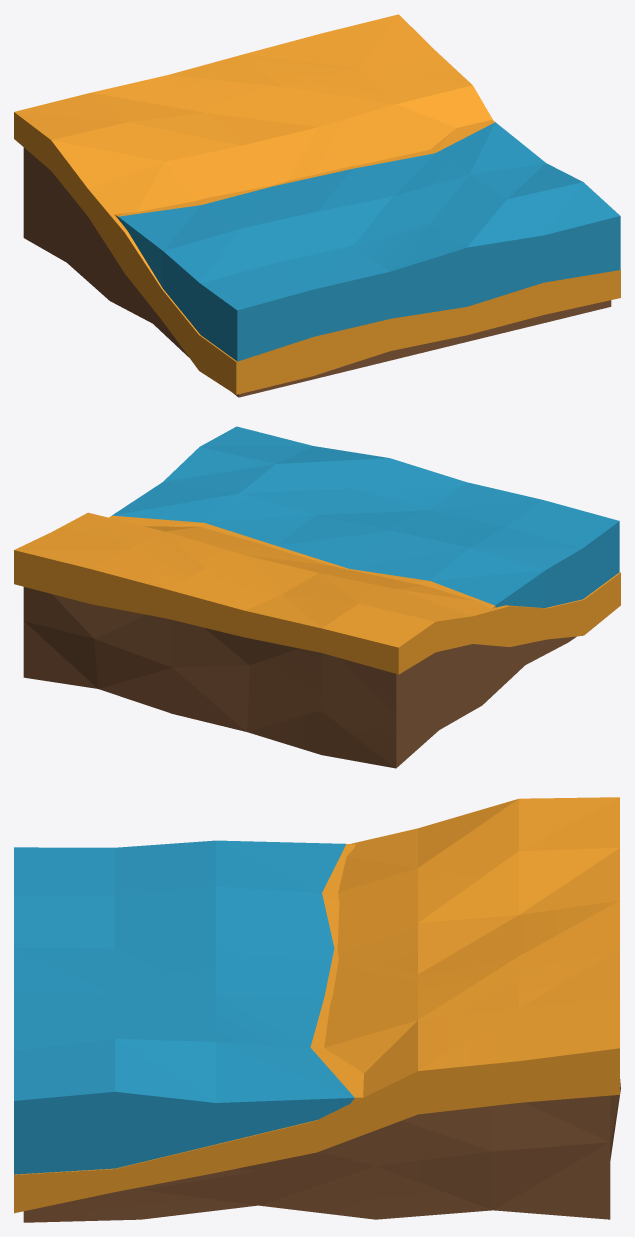
The model's file is terrains_world-beach.fbx.
3 renders of one model, top to bottom at view 1: azimuth 30°, elevation 25°; view 2: azimuth 150°, elevation 25°; view 3: azimuth 270°, elevation 25°, orthographic. The views are drawn at different scales.
Visible parts, largest first — view 1: terrains_world_beach; view 2: terrains_world_beach; view 3: terrains_world_beach.
Boxes of the visible parts, bbox=[...] form: terrains_world_beach: bbox=[14, 14, 620, 397]; terrains_world_beach: bbox=[14, 426, 620, 768]; terrains_world_beach: bbox=[14, 797, 620, 1222].
Bounding box in the file's own units: 200 × 66.16 × 200.
